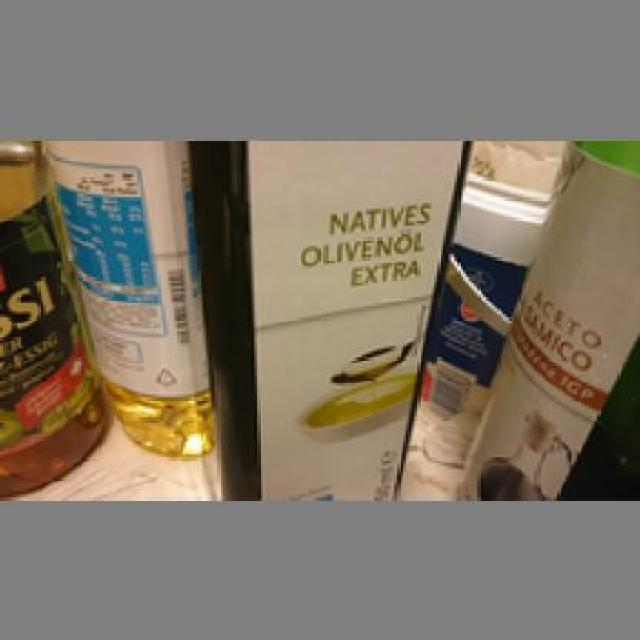Oil: (186, 137, 472, 497), (40, 139, 209, 452)
